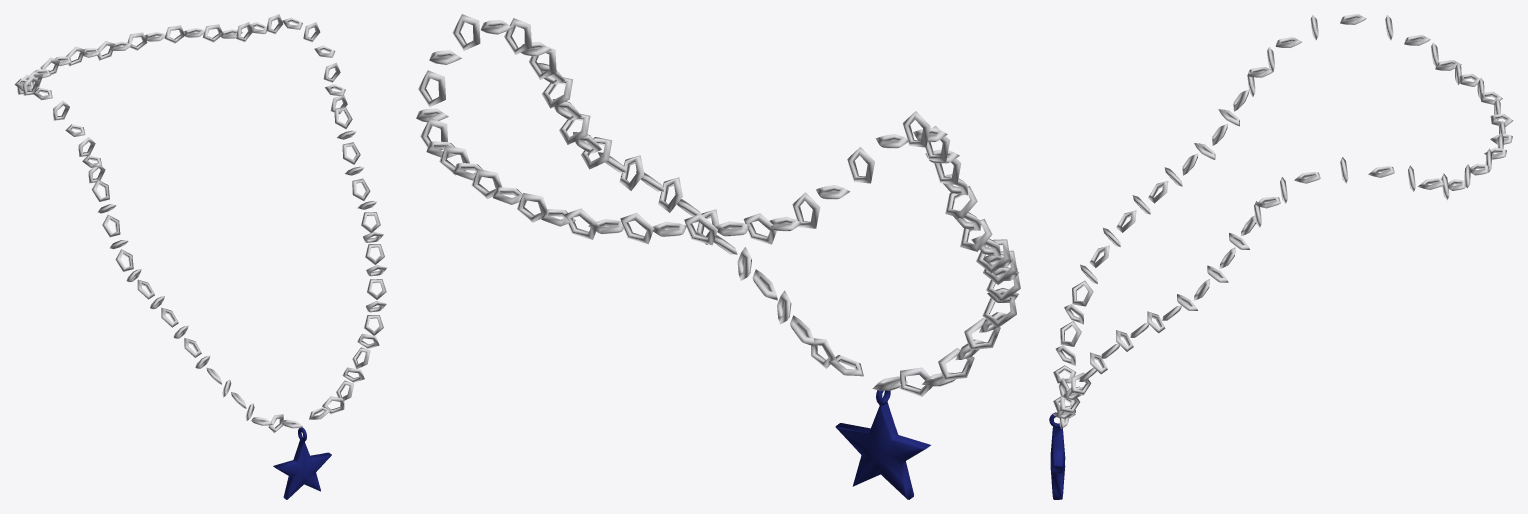
The model's file is acc_chain_star.glb.
3 renders of one model, left to right at view 1: azimuth 30°, elevation 25°; view 2: azimuth 150°, elevation 25°; view 3: azimuth 270°, elevation 25°, orthographic. The views are drawn at different scales.
Parts seen in each view (by area): view 1: acc_chain_star_0_metal, acc_chain_star_1_secondary; view 2: acc_chain_star_0_metal, acc_chain_star_1_secondary; view 3: acc_chain_star_0_metal, acc_chain_star_1_secondary.
Boxes of the visible parts, x1=… form: acc_chain_star_0_metal: x1=14, y1=14, x2=386, y2=433; acc_chain_star_1_secondary: x1=273, y1=427, x2=331, y2=499; acc_chain_star_0_metal: x1=416, y1=14, x2=1020, y2=396; acc_chain_star_1_secondary: x1=835, y1=390, x2=930, y2=499; acc_chain_star_0_metal: x1=1053, y1=14, x2=1513, y2=428; acc_chain_star_1_secondary: x1=1049, y1=412, x2=1065, y2=499.
Bounding box in the file's own units: 0.1856 × 0.2203 × 0.228.
